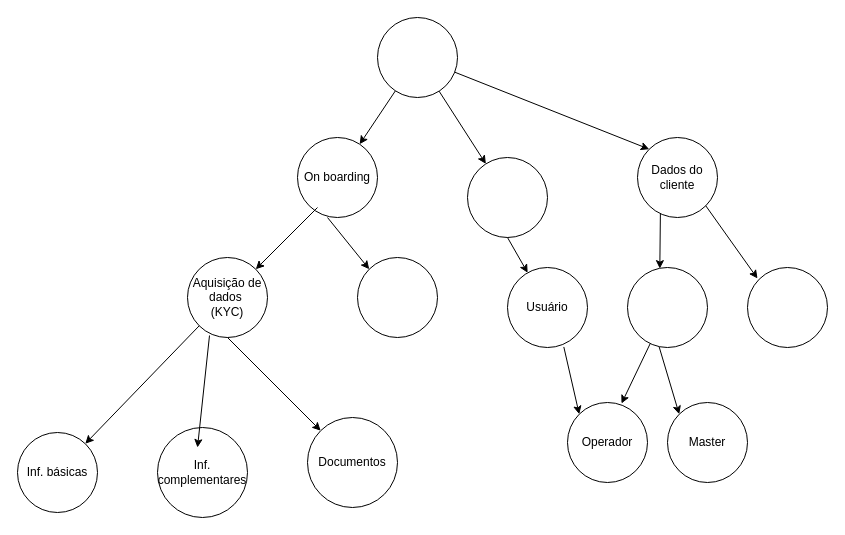
Some shapes in this 845 by 535 pixel diagram are drawn without their labels. The box of each missing label's shape, as (x1, y1, x2, y2) in pixels:
Ativação de Conta: (356, 256, 438, 338)
Autenticação: (466, 156, 548, 238)
Customers: (376, 16, 458, 98)
PF: (746, 266, 828, 348)
PJ: (626, 266, 708, 348)
